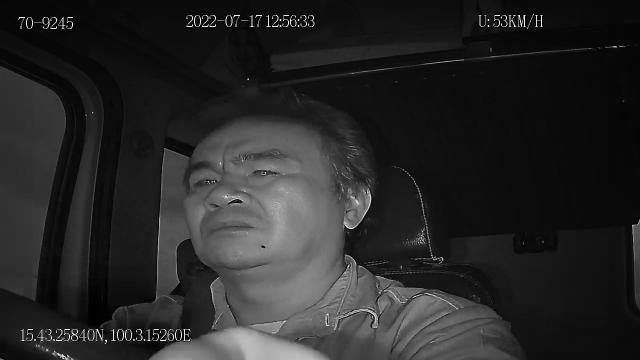SafeDriving: (242, 156, 288, 187), (184, 166, 224, 197)
Seatbelt: (178, 270, 216, 342)
